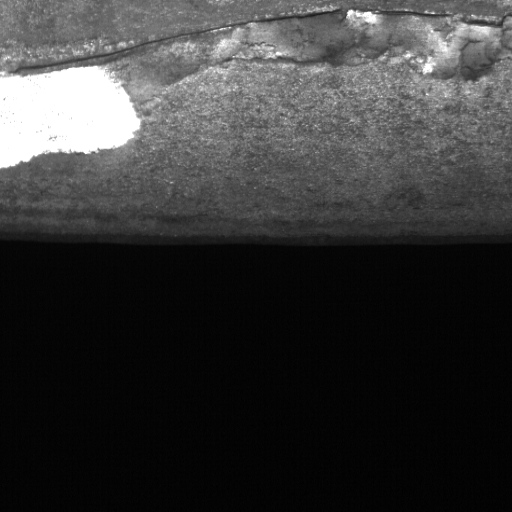aokeng: (1, 62, 142, 171)
